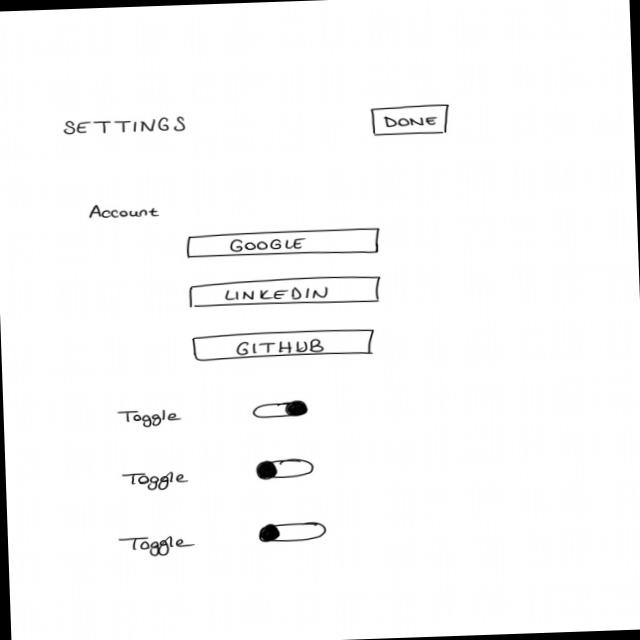button: (187, 274, 383, 309), (186, 228, 383, 261), (192, 328, 377, 363), (370, 104, 452, 138)
label: (63, 116, 190, 137), (117, 535, 198, 560), (121, 471, 191, 494), (87, 202, 163, 221), (118, 408, 184, 429)
toggle: (257, 521, 328, 544), (255, 457, 316, 482), (252, 400, 311, 422)
